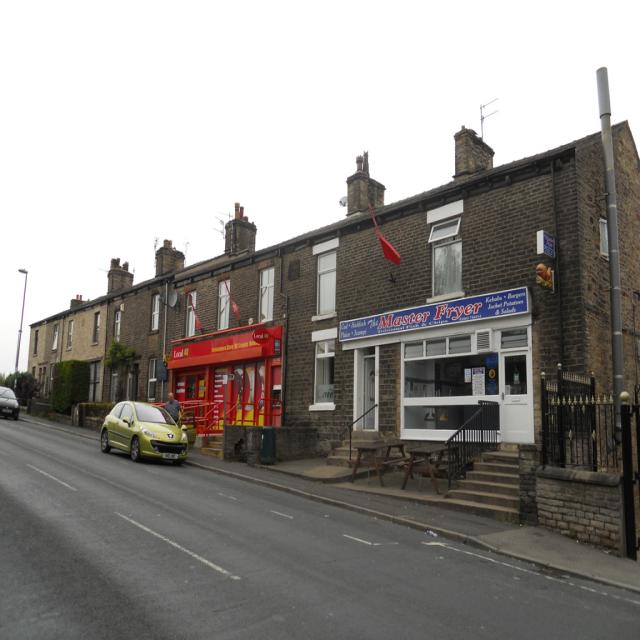car: (95, 397, 184, 464)
